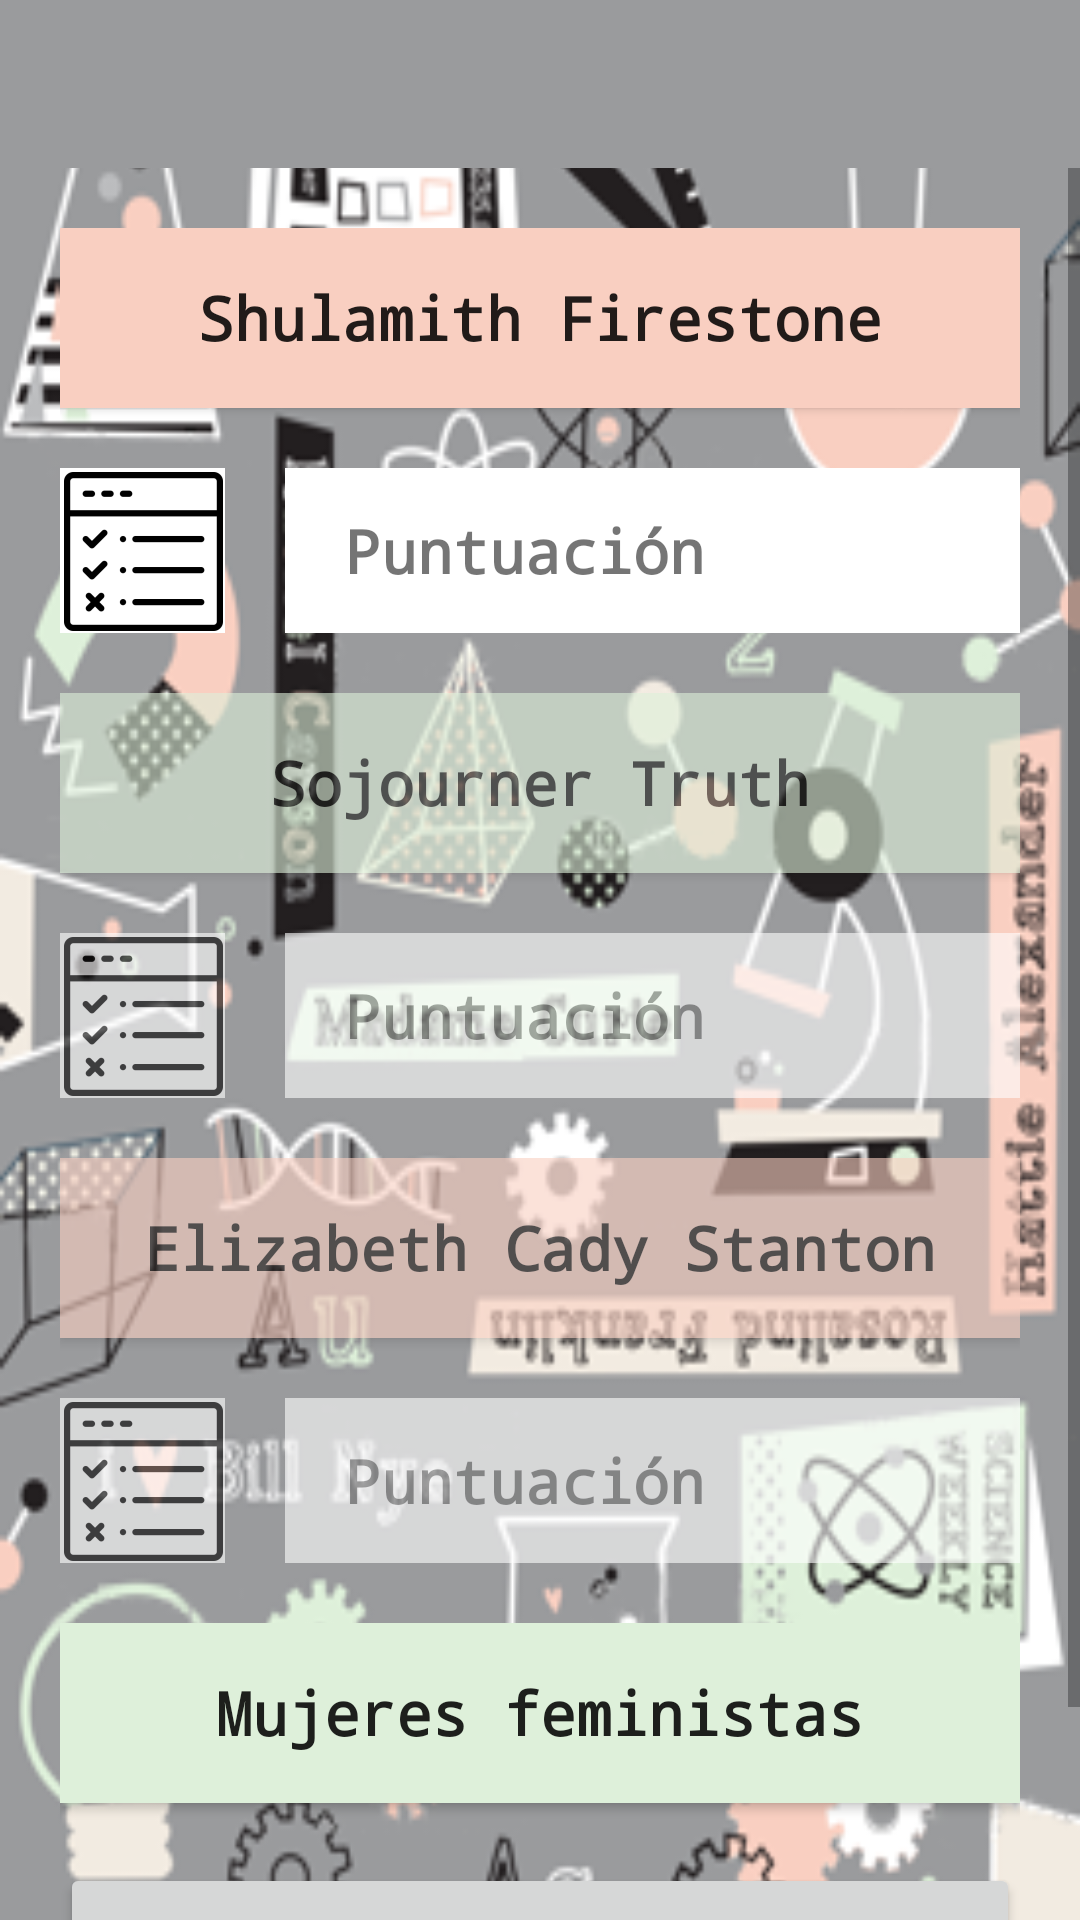

Where icons sit on this 1080w x 1920h app screen, as (x1, y1, x2, y2):
autoevaluacion: (60, 468, 225, 633), (60, 933, 225, 1098), (60, 1398, 225, 1563)
